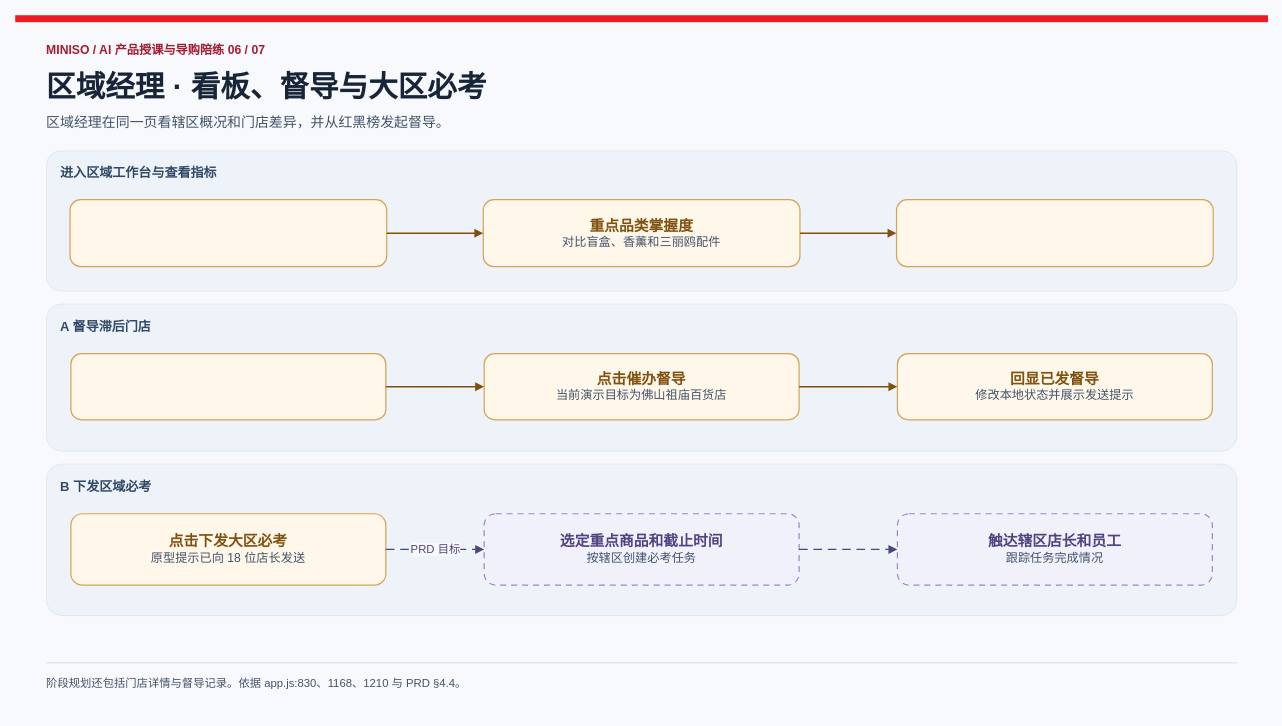
This 1282x726 diagram has some shape labels left out. Here are the shapes that lost their labels. From the top down, the centre of each, then its label:
At (228,233): "大区培训总览 门店数、员工数、通关率、训后客单价".
At (1054,233): "辖区门店红黑榜 识别标杆门店和滞后门店".
At (228,386): "查看滞后门店 识别进度落后的班次或品类".
